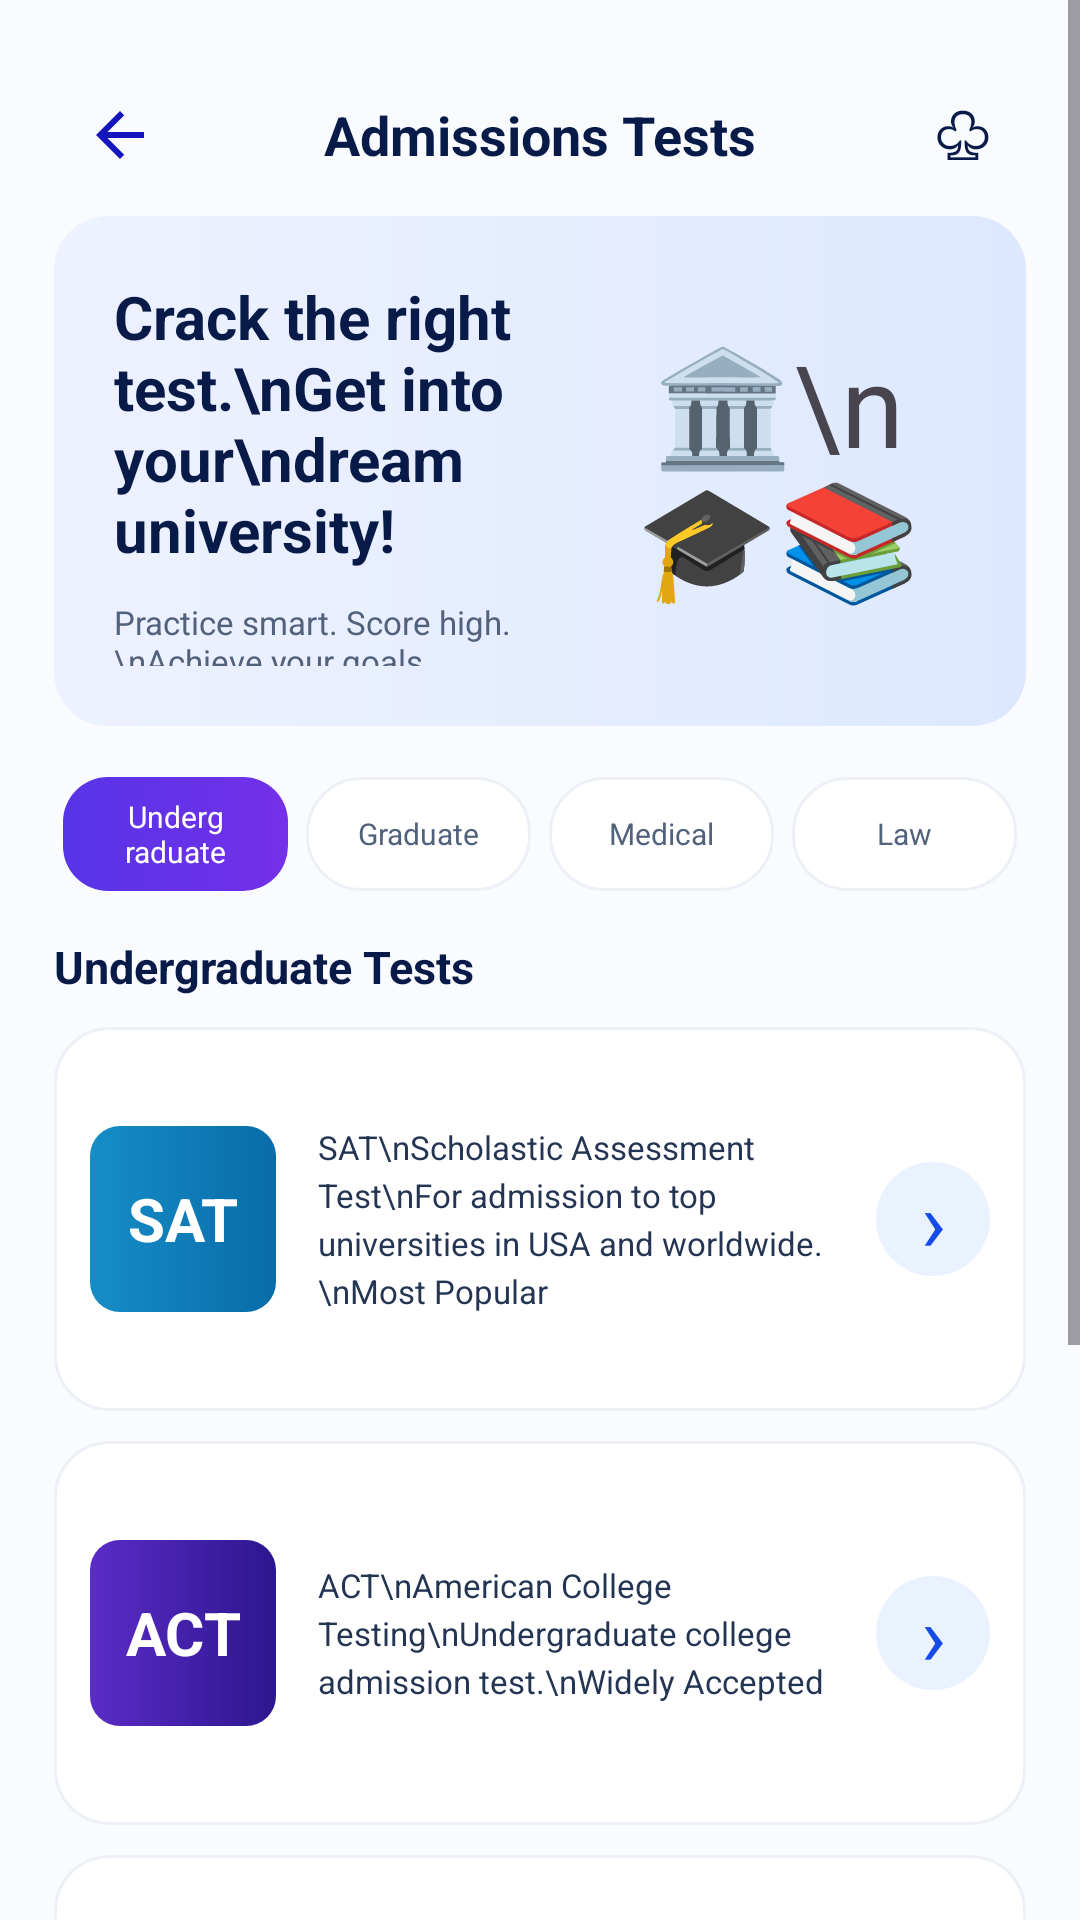

Screen size 1080*1920. Icon name, then its box in pixels as {"left": x1, "top": y1, "right": x2, "bottom": y2}:
arrow back: {"left": 96, "top": 111, "right": 144, "bottom": 159}
